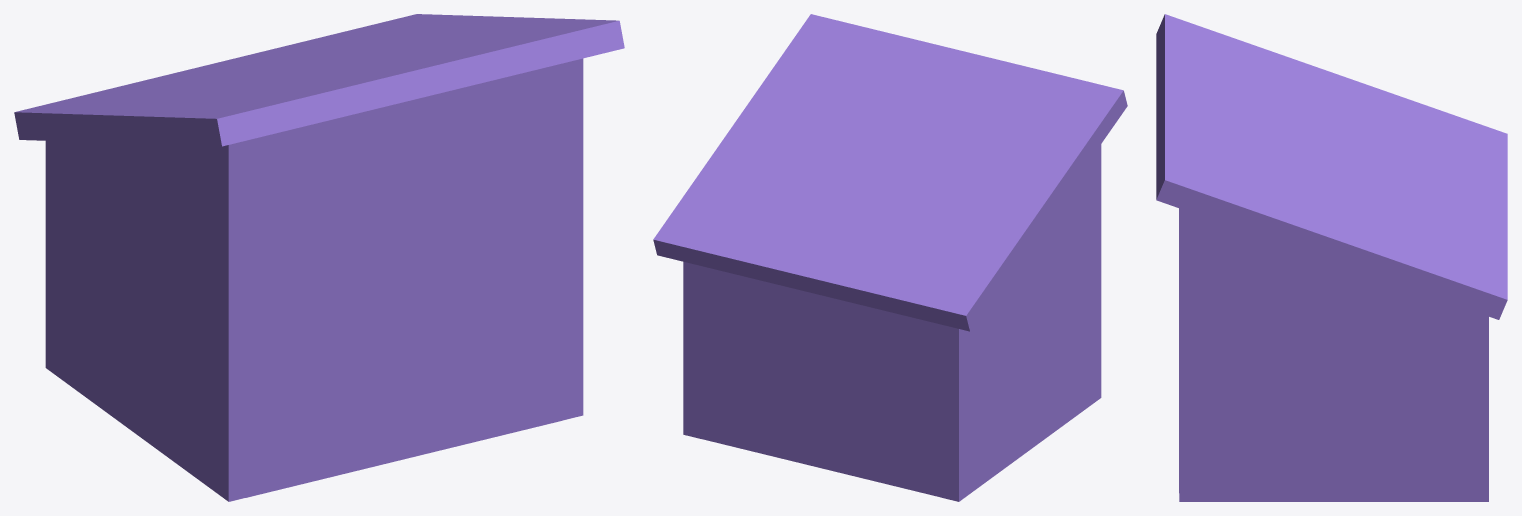
Rendered from Hut.fbx.
3 views of the same model, side by side, from view 1: azimuth 30°, elevation 25°; view 2: azimuth 150°, elevation 25°; view 3: azimuth 270°, elevation 25° (orthographic). The views are drawn at different scales.
Visible parts, largest first — view 1: pCube40, pCube37, pCube41, pCube38, pCube36; view 2: pCube41, pCube39, pCube37, pCube38, pCube36; view 3: pCube38, pCube41.
Part boxes in pixels (<box>): pCube40: <box>245,63,562,497</box>; pCube37: <box>45,140,245,501</box>; pCube41: <box>14,14,624,146</box>; pCube38: <box>563,58,583,420</box>; pCube36: <box>229,390,582,501</box>; pCube41: <box>653,14,1127,331</box>; pCube39: <box>698,265,945,491</box>; pCube37: <box>940,144,1101,501</box>; pCube38: <box>683,261,700,438</box>; pCube36: <box>686,421,958,501</box>; pCube38: <box>1179,208,1488,501</box>; pCube41: <box>1156,14,1507,319</box>.
Size of the model in its own units: 2.95 by 2.76 by 2.64.
